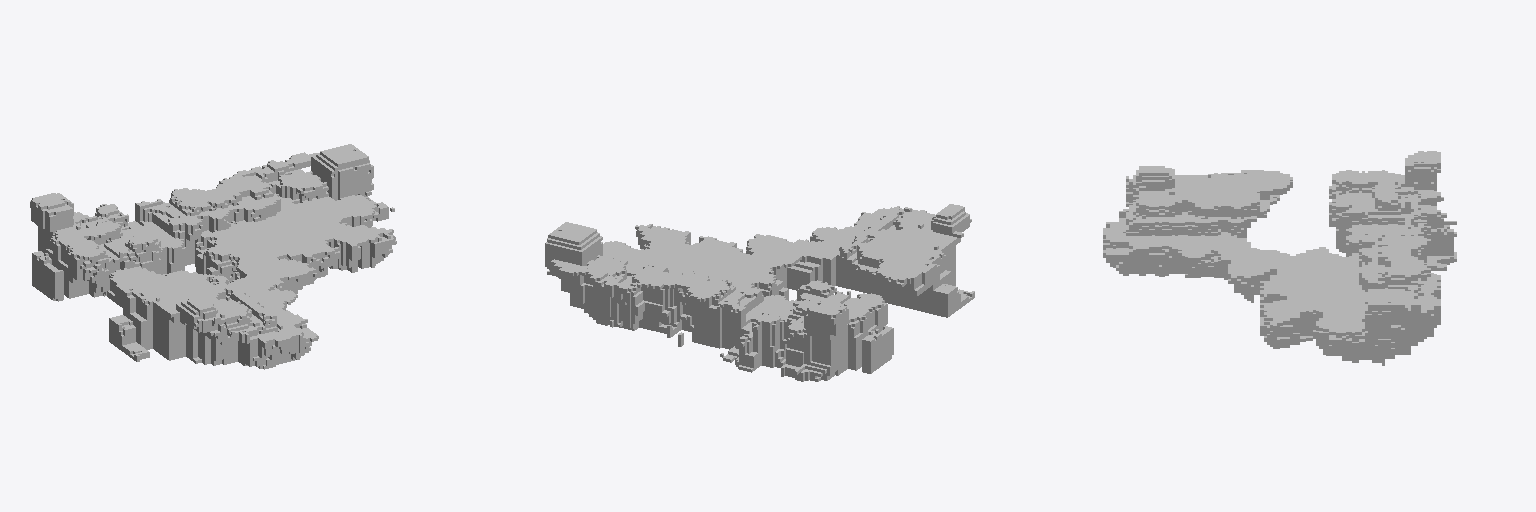
File: island.obj
3 renders of one model, left to right at view 1: azimuth 30°, elevation 25°; view 2: azimuth 150°, elevation 25°; view 3: azimuth 270°, elevation 25°, orthographic.
Visible parts, largest first — view 1: island; view 2: island; view 3: island.
Part boxes in pixels (left/top/right/bottom): island: left=30, top=144, right=396, bottom=369; island: left=545, top=204, right=974, bottom=381; island: left=1103, top=151, right=1456, bottom=365.
Size of the model in its own units: 115 by 23 by 108.